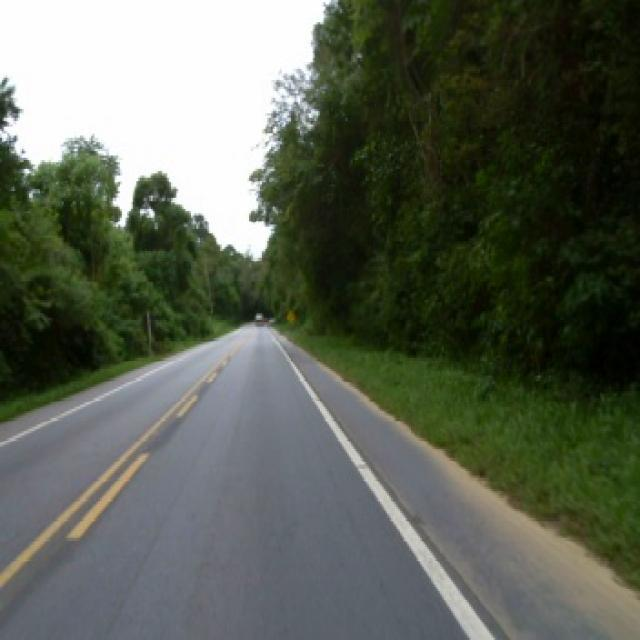Poth-hole: (354, 460, 366, 467)
